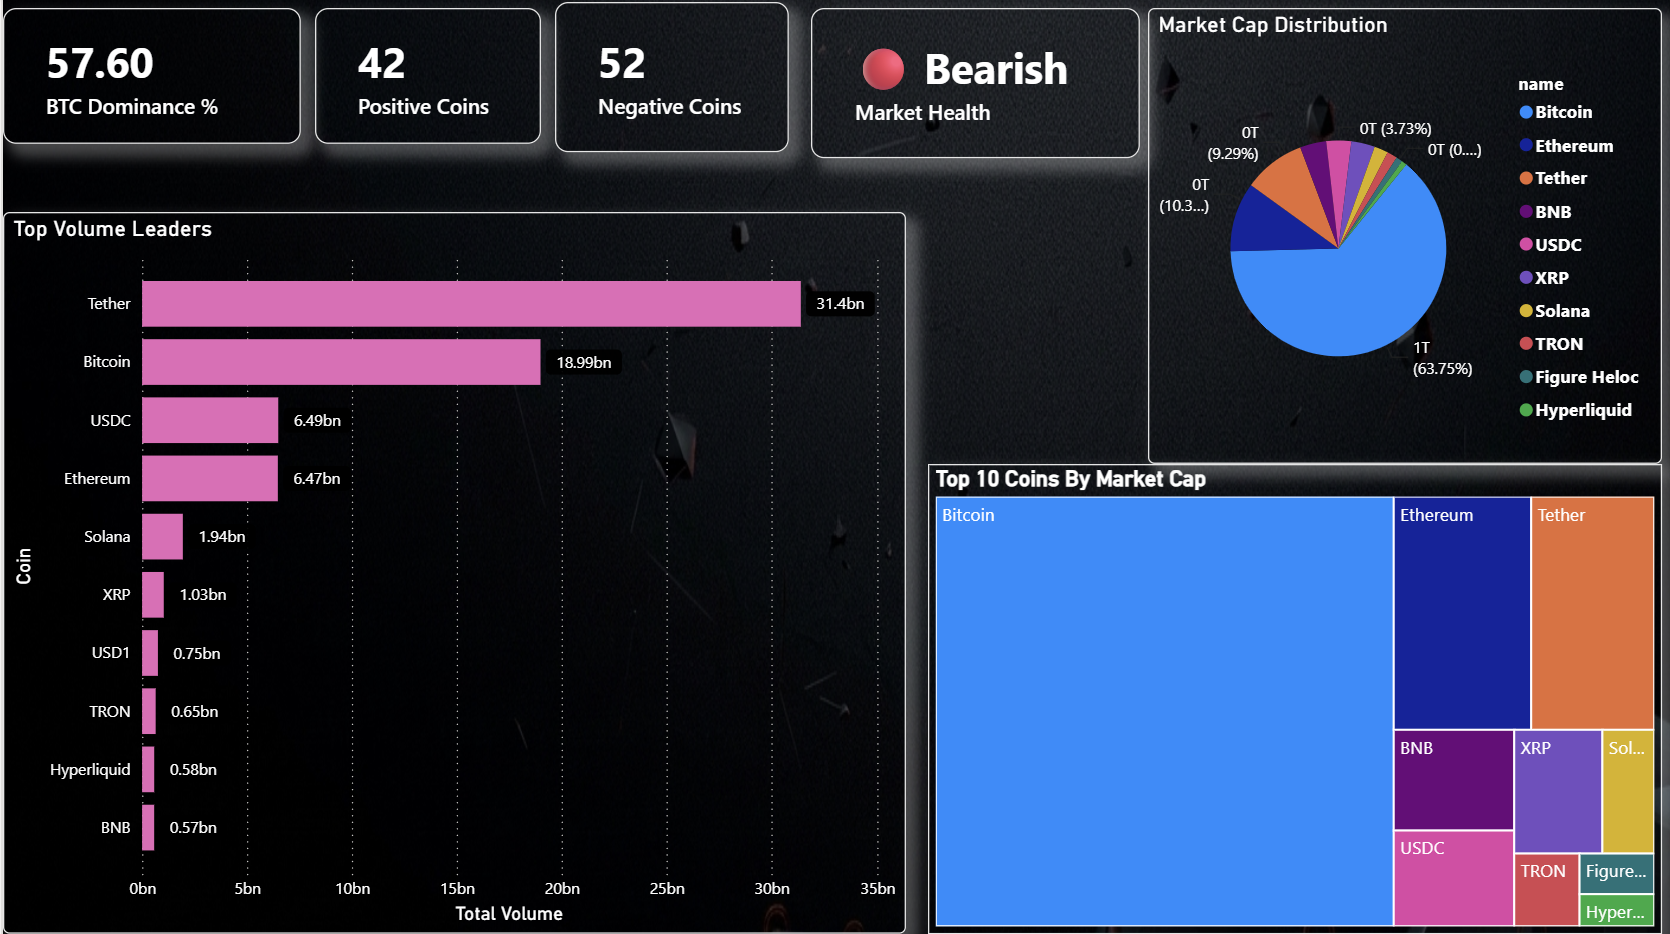

The dashboard page shown, as its layout file describes it:
{"tool":"powerbi","page":{"name":"Page 2","canvas":[1280,720],"ordinal":1},"visuals":[{"type":"cardVisual","fields":{"Data":["crypto_market.BTC Dominance %"]},"box":[0,10.7,228.1,104.1],"z":0},{"type":"cardVisual","fields":{"Data":["crypto_market.Positive Coins"]},"box":[238.9,10.7,173,104.1],"z":1},{"type":"cardVisual","fields":{"Data":["crypto_market.Negative Coins"]},"box":[422.6,6.1,179.1,114.8],"z":2},{"type":"cardVisual","fields":{"Data":["crypto_market.Market Health"]},"box":[618.6,10.7,251.1,114.8],"z":3},{"type":"treemap","title":"Top 10 Coins By Market Cap","fields":{"Values":["Sum(crypto_market.market_cap)"],"Group":["crypto_market.name"]},"box":[707.4,359.8,561.9,359.8],"z":4},{"type":"pieChart","title":"Market Cap Distribution","fields":{"Category":["crypto_market.name"],"Y":["Sum(crypto_market.market_cap)"]},"box":[875.8,10.7,393.5,349.1],"z":5},{"type":"clusteredBarChart","title":"Top Volume Leaders","fields":{"Category":["crypto_market.name"],"Y":["crypto_market.Total Volume"]},"box":[0,166.9,690.5,552.7],"z":6}]}

Visuals, with their boxes in screenshot pixels (x1, y1, x2, y2), scaled from the page's 1280x720 canvas onto the 1670x934 screenshot:
cardVisual - crypto_market.BTC Dominance %: rect(0, 14, 298, 149)
cardVisual - crypto_market.Positive Coins: rect(312, 14, 537, 149)
cardVisual - crypto_market.Negative Coins: rect(551, 8, 785, 157)
cardVisual - crypto_market.Market Health: rect(807, 14, 1135, 163)
"Top 10 Coins By Market Cap" treemap: rect(923, 467, 1656, 933)
"Market Cap Distribution" pieChart: rect(1143, 14, 1656, 467)
"Top Volume Leaders" clusteredBarChart: rect(0, 217, 901, 933)
